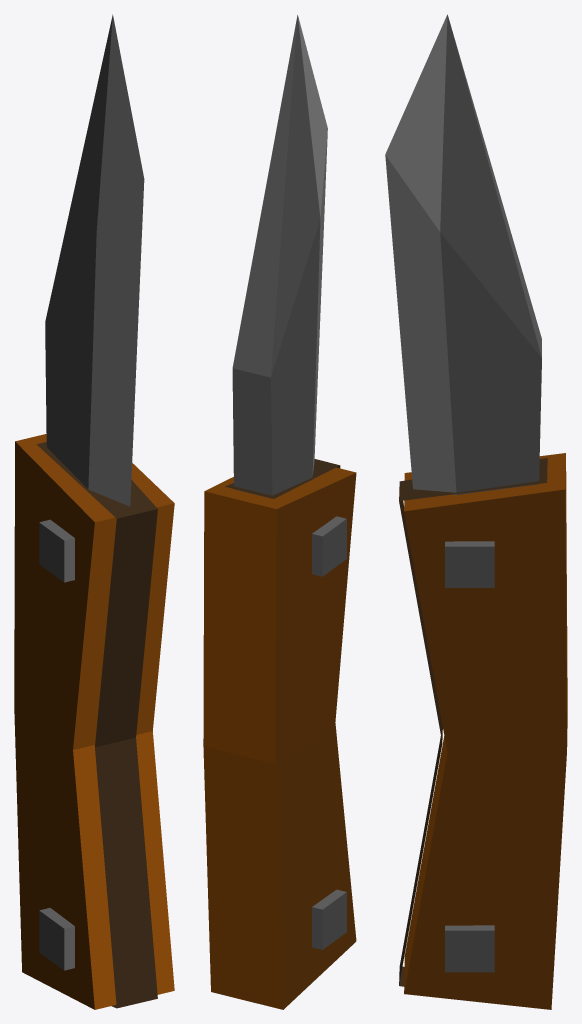
Rendered from Item_FoldingKnife00.FBX.
3 views of the same model, side by side, from view 1: azimuth 30°, elevation 25°; view 2: azimuth 150°, elevation 25°; view 3: azimuth 270°, elevation 25° (orthographic). The views are drawn at different scales.
Parts seen in each view (by area): view 1: Item_FoldingKnife00; view 2: Item_FoldingKnife00; view 3: Item_FoldingKnife00.
Boxes of the visible parts, <box> form: Item_FoldingKnife00: <box>14,14,174,1009</box>; Item_FoldingKnife00: <box>203,15,356,1009</box>; Item_FoldingKnife00: <box>385,14,567,1009</box>.
Size of the model in its own units: 3.78 by 35.81 by 6.05.
